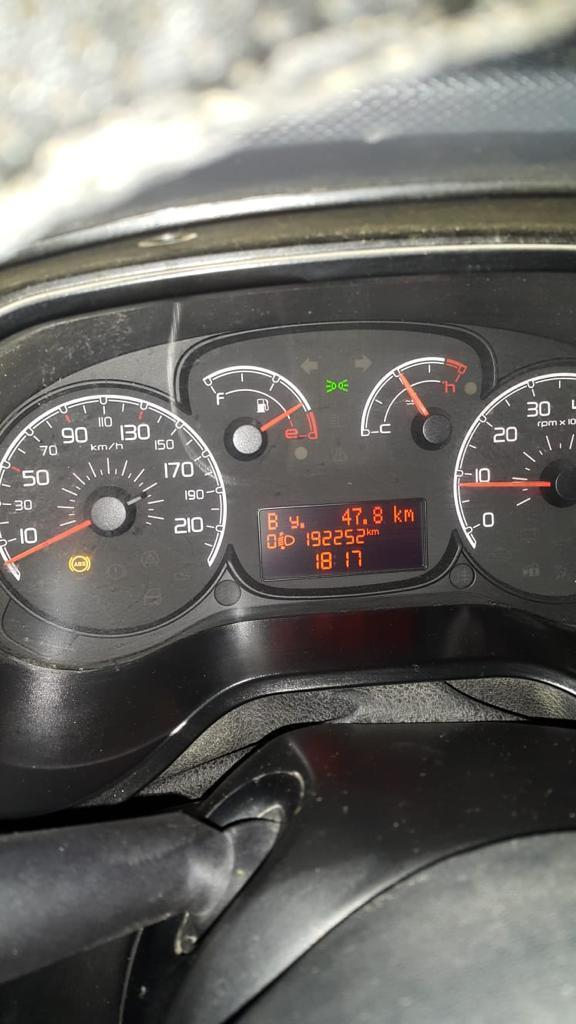,: (361, 517, 368, 526), (299, 520, 305, 529)
0: (266, 532, 277, 550)
1: (344, 550, 350, 568), (314, 551, 319, 571), (305, 530, 310, 549)
2: (333, 528, 343, 545), (322, 529, 332, 546), (355, 528, 365, 544)
4: (340, 506, 351, 525)
5: (344, 528, 355, 545)
7: (351, 549, 363, 567), (351, 507, 362, 525)
8: (320, 550, 332, 570), (371, 505, 383, 525)
9: (310, 530, 321, 547)
X: (266, 511, 280, 530), (392, 503, 402, 523), (403, 507, 415, 522), (288, 514, 299, 528), (371, 528, 380, 536), (332, 554, 337, 565), (366, 527, 371, 536)
odometer: (256, 497, 433, 581)
